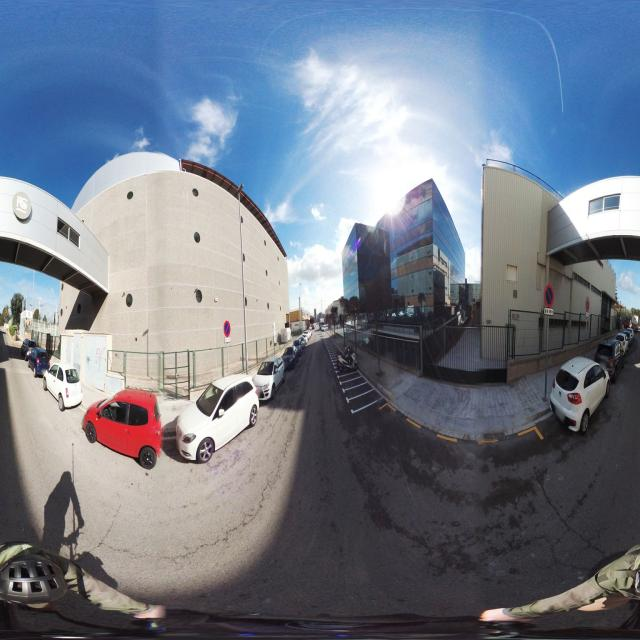forb_stopping: (544, 284, 554, 308)
forb_waiting: (223, 321, 230, 338), (585, 297, 590, 312)
